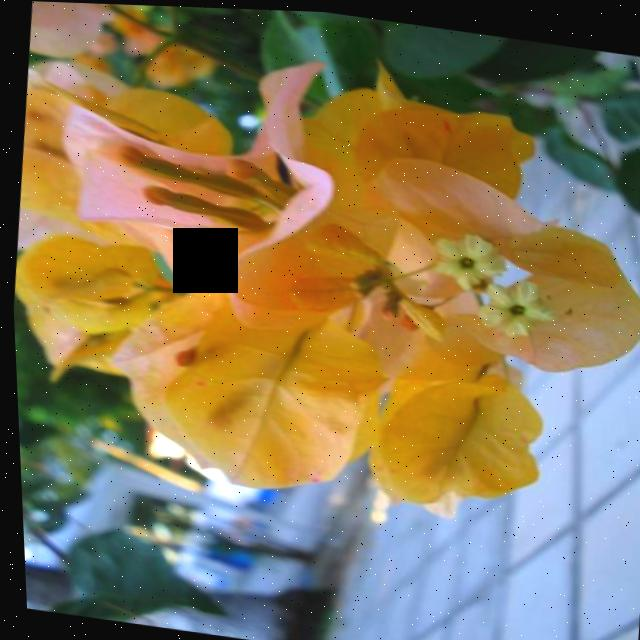bougainvillea: (0, 0, 640, 561)
